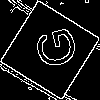G: (25, 25, 79, 73)
